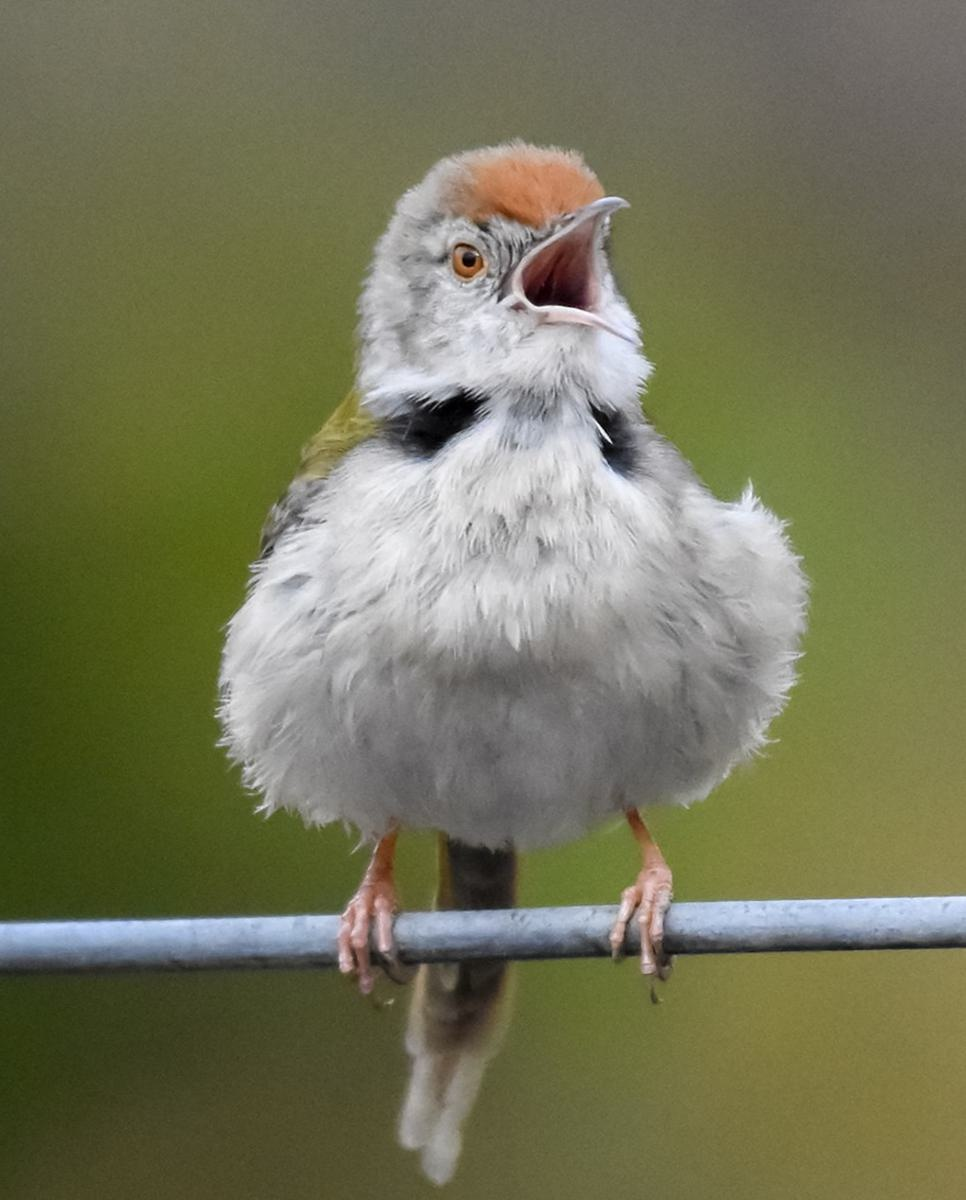tailorbird: (208, 80, 842, 969)
